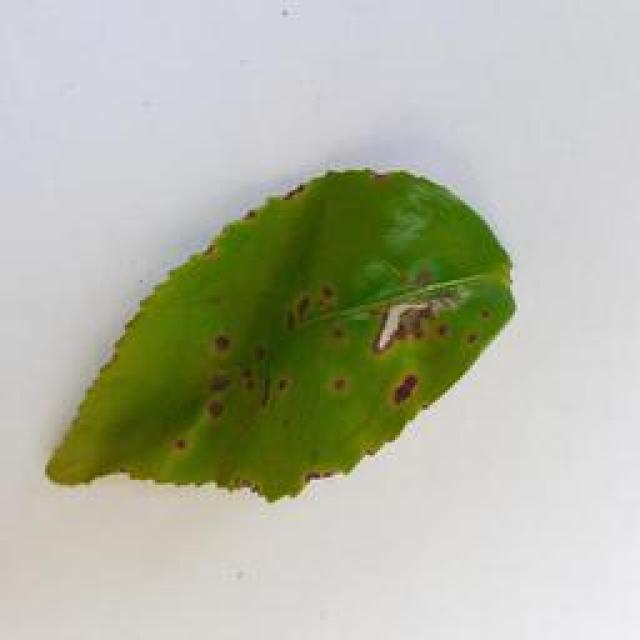Helopeltis: (29, 155, 524, 508)
